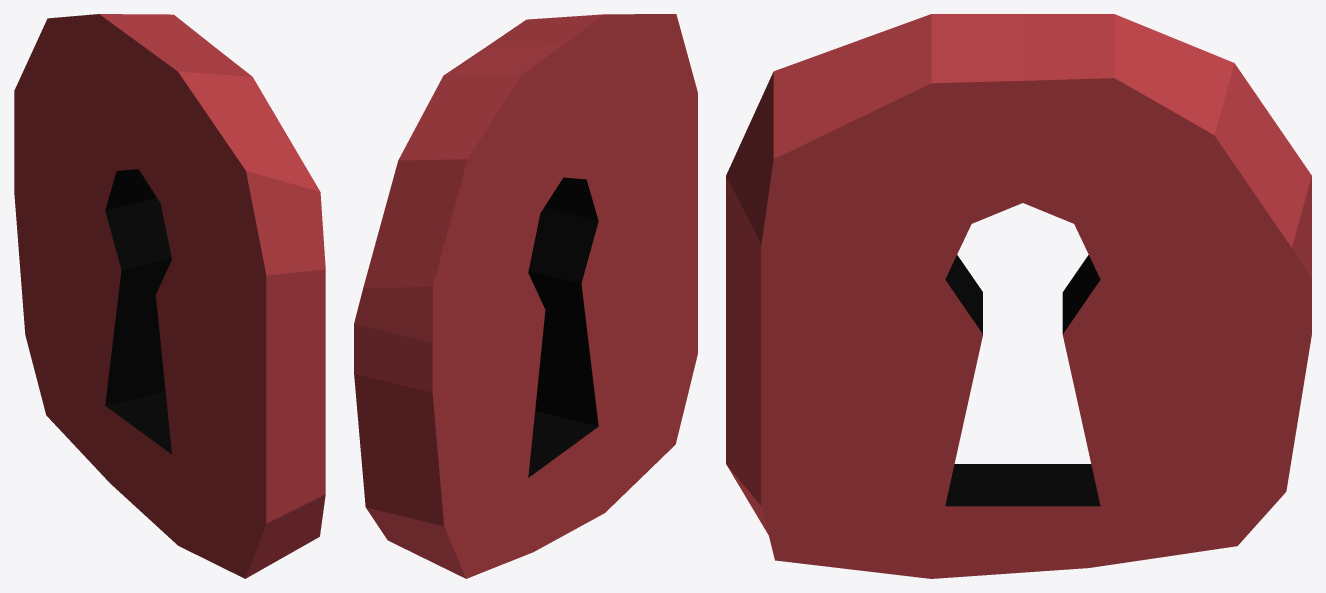
Rendered from CerraduraRojo.fbx.
3 renders of one model, left to right at view 1: azimuth 30°, elevation 25°; view 2: azimuth 150°, elevation 25°; view 3: azimuth 270°, elevation 25°, orthographic. The views are drawn at different scales.
Visible parts, largest first — view 1: Cube; view 2: Cube; view 3: Cube.
Part boxes in pixels (x1,y1,x2,y2): Cube: (14, 14, 325, 578); Cube: (354, 14, 697, 578); Cube: (726, 14, 1311, 578).
Size of the model in its own units: 2.54 by 15.41 by 14.86.
